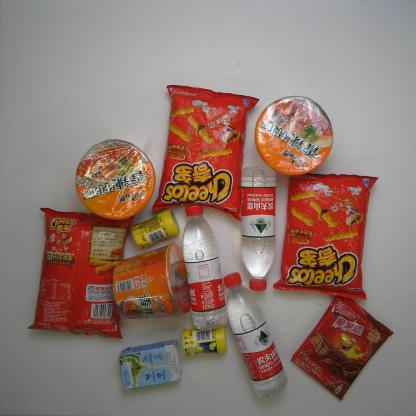Dessert: (290, 293, 396, 403)
Drink: (222, 270, 289, 398), (181, 202, 228, 332), (239, 165, 277, 292)
Gum: (130, 209, 180, 252), (180, 326, 228, 358)
Instant Noodles: (73, 137, 155, 221), (253, 94, 335, 177), (111, 241, 191, 323)
Milk: (117, 337, 184, 392)
Puffed Food: (150, 83, 261, 223), (27, 206, 135, 340), (271, 172, 378, 302)
